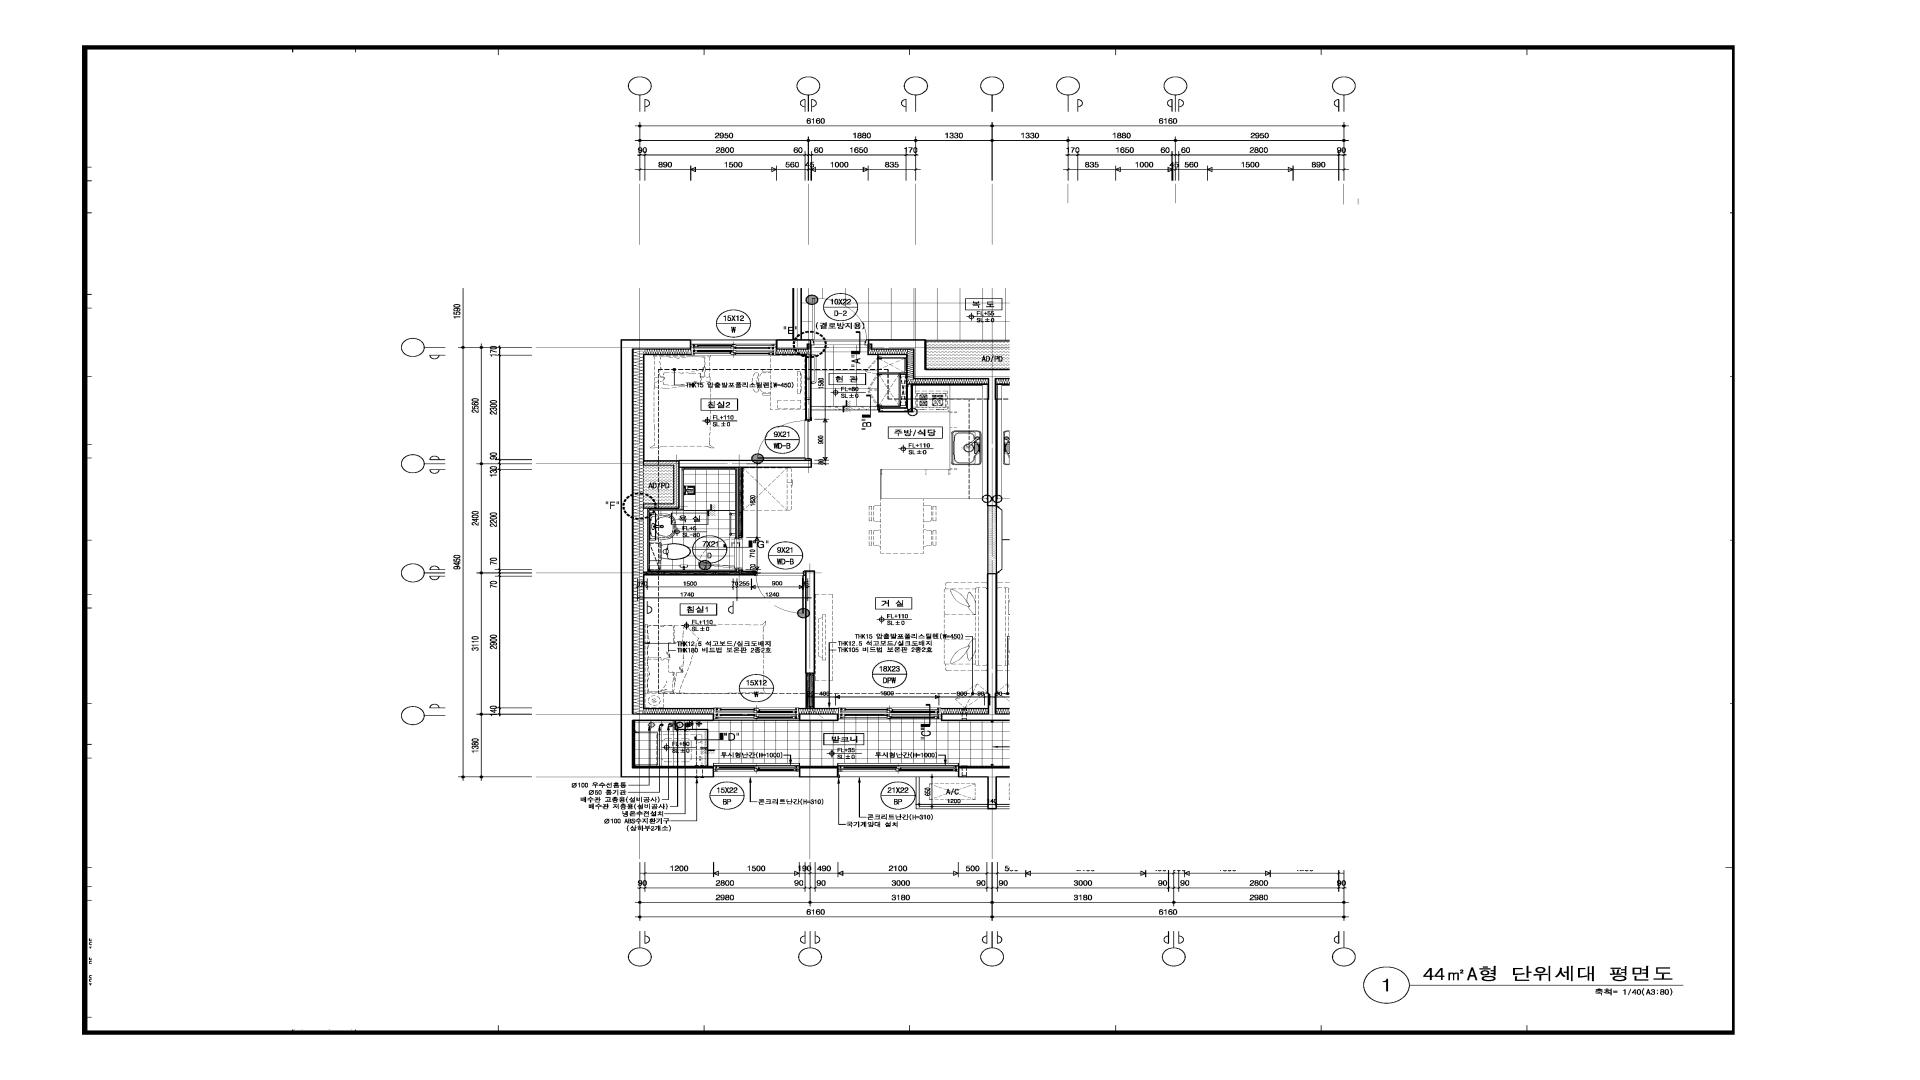door: (811, 298, 869, 345), (757, 419, 812, 460), (754, 571, 806, 613), (698, 538, 742, 571)
wall: (868, 339, 998, 721), (620, 339, 715, 778), (644, 460, 812, 575), (959, 766, 1010, 810), (775, 287, 811, 349), (878, 357, 907, 407), (806, 570, 815, 708), (878, 384, 913, 413), (806, 353, 812, 419), (800, 766, 837, 777), (799, 713, 839, 721), (877, 355, 880, 357)
window: (837, 764, 959, 777), (691, 339, 775, 356), (713, 707, 799, 721), (839, 708, 942, 720), (713, 764, 800, 777)
